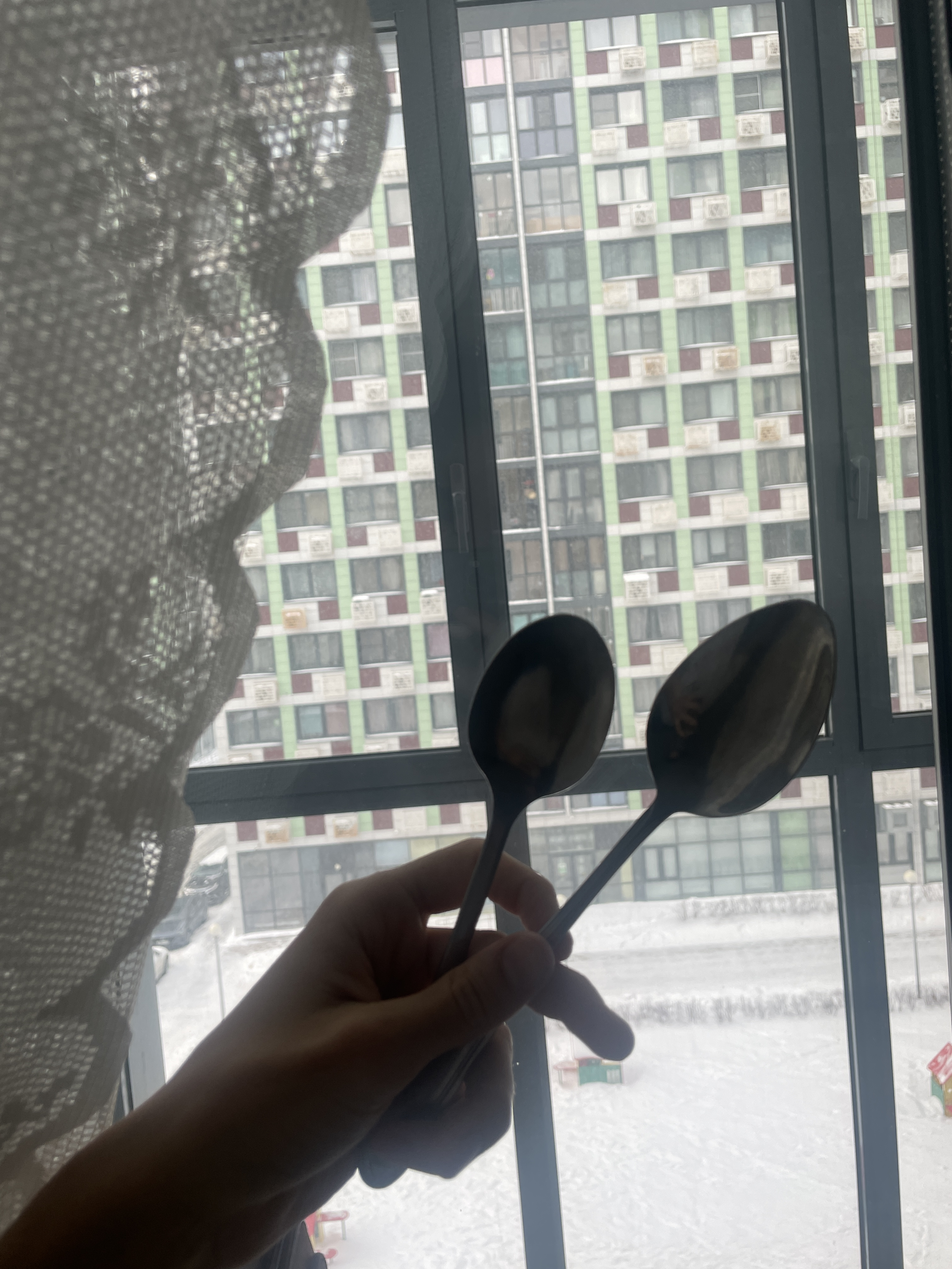spoon: (542, 600, 836, 940), (439, 615, 615, 975)
